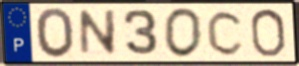3: (120, 8, 160, 58)
C: (205, 9, 246, 57)
N: (78, 8, 119, 58)
O: (34, 6, 77, 60), (161, 6, 204, 59), (249, 7, 288, 59)
